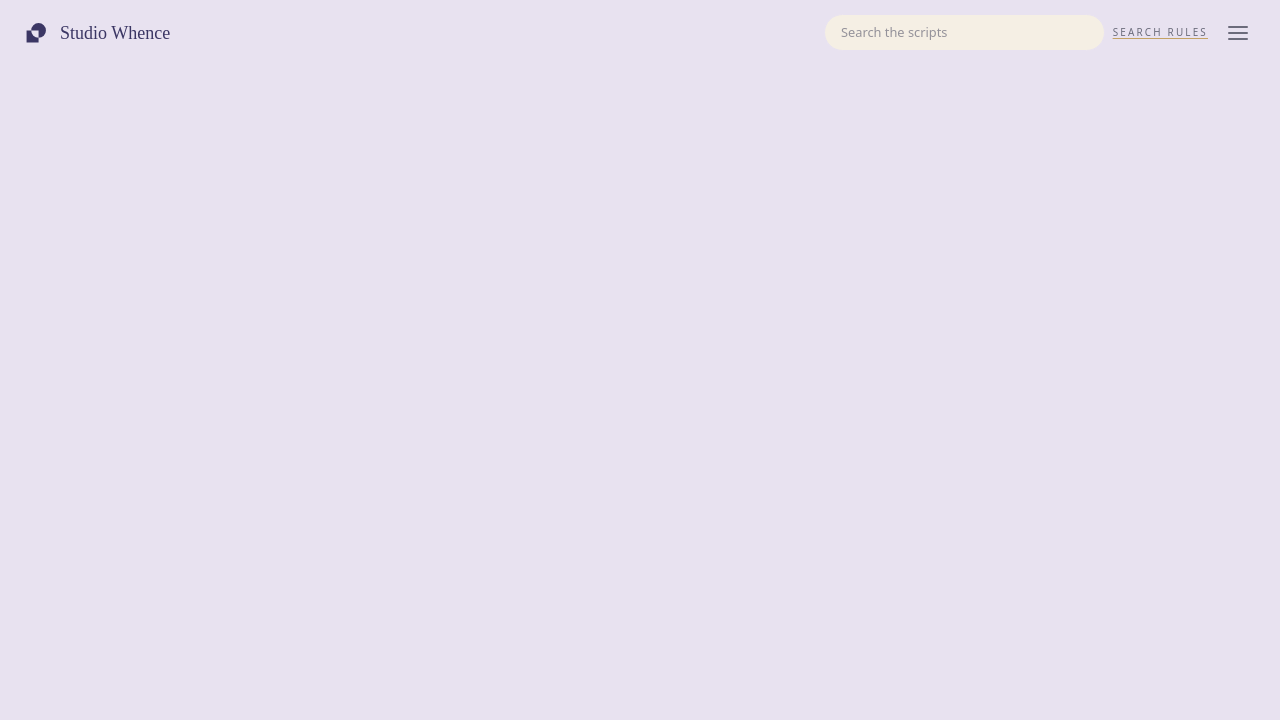
Test: Topbar — Admin link visibility (in menu) › Admin link IS present when useAllowStatus returns "admin"
The width and height of the screenshot is (1280, 720).
What coordinates should you click on to do the following:
click the button named "open menu"
I would click on:
 (1238, 33)
Its box is [1220,15,1256,51].
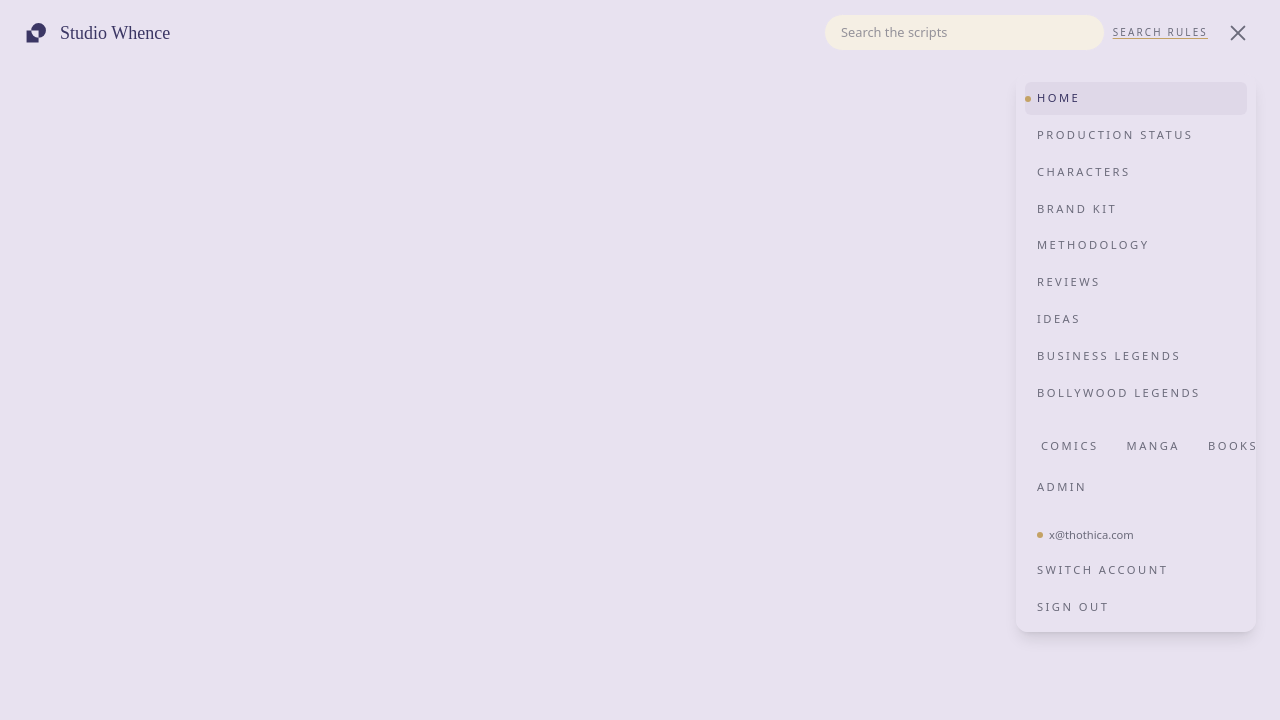
Expected: the link "Admin" is shown, [1037,479,1087,494]
